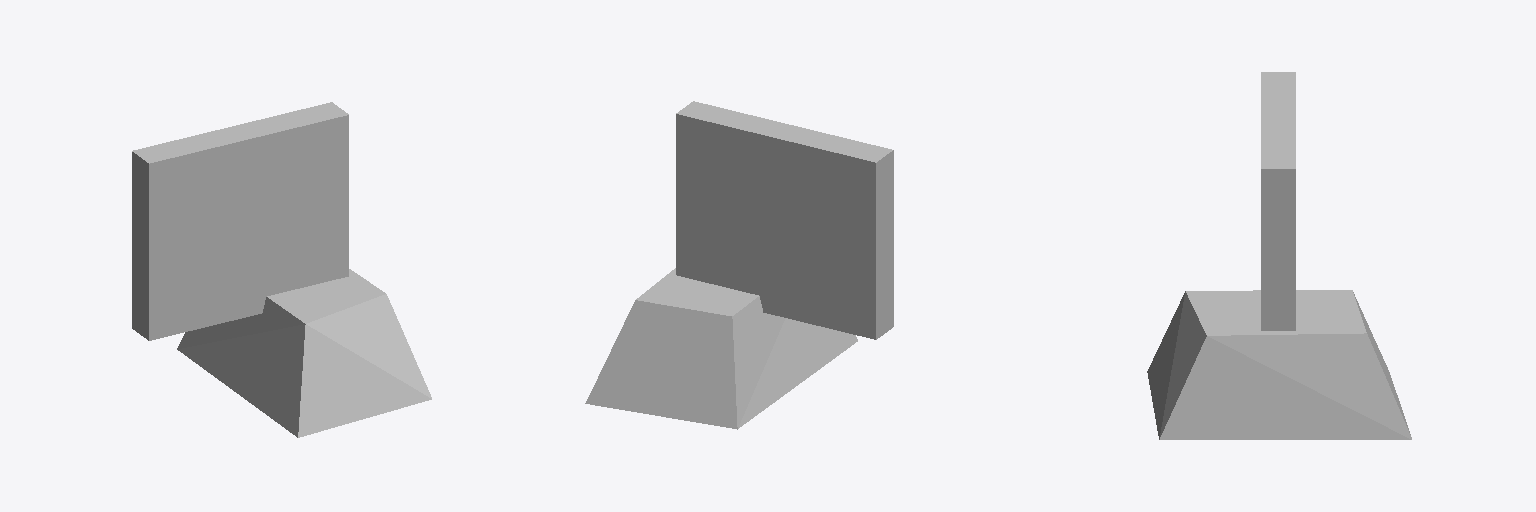
File: hitBoxPlante1.obj
3 renders of one model, left to right at view 1: azimuth 30°, elevation 25°; view 2: azimuth 150°, elevation 25°; view 3: azimuth 270°, elevation 25°, orthographic.
Parts seen in each view (by area): view 1: hitBoxPlante1_Cube.013; view 2: hitBoxPlante1_Cube.013; view 3: hitBoxPlante1_Cube.013.
Part boxes in pixels (left/top/right/bottom): hitBoxPlante1_Cube.013: left=132, top=102, right=431, bottom=437; hitBoxPlante1_Cube.013: left=585, top=101, right=893, bottom=429; hitBoxPlante1_Cube.013: left=1147, top=72, right=1411, bottom=439.
Size of the model in its own units: 0.9759 by 1.02 by 0.9649.